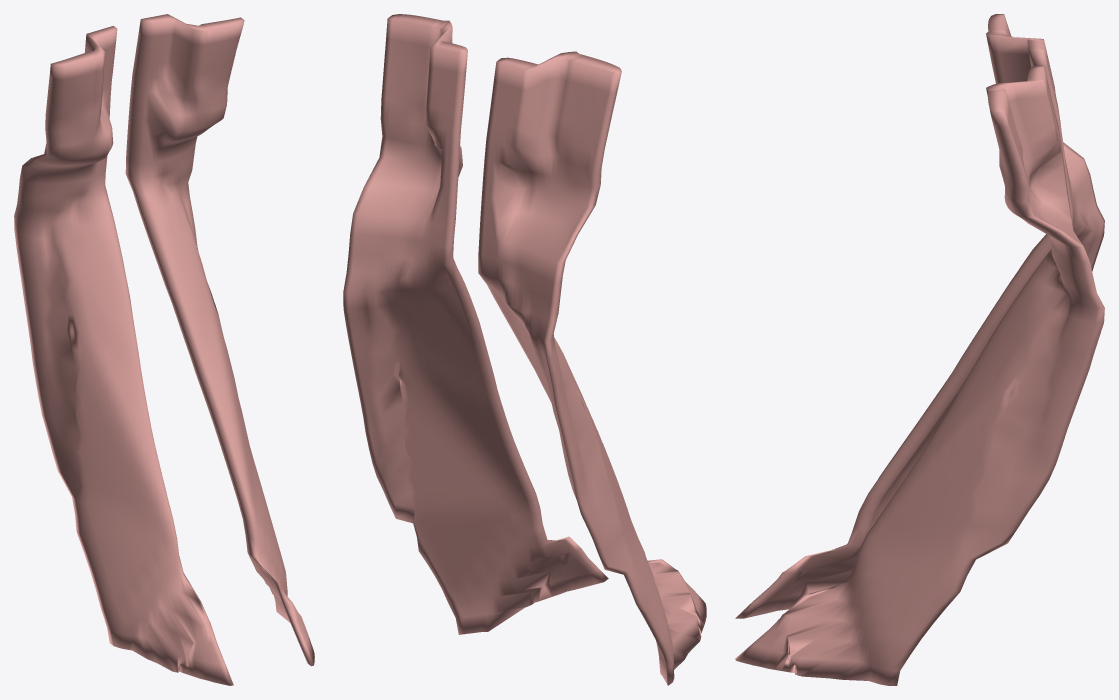
The model's file is procerus_lod1.glb.
The picture shows the model from 3 angles, left to right: view 1: azimuth 30°, elevation 25°; view 2: azimuth 150°, elevation 25°; view 3: azimuth 270°, elevation 25°; orthographic projection. The views are drawn at different scales.
Visible parts, largest first — view 1: procerus_R_lod1, procerus_L_lod1; view 2: procerus_L_lod1, procerus_R_lod1; view 3: procerus_L_lod1, procerus_R_lod1.
Boxes of the visible parts, left/top/right/bottom form: procerus_R_lod1: left=14, top=26, right=233, bottom=685; procerus_L_lod1: left=125, top=14, right=314, bottom=666; procerus_L_lod1: left=343, top=14, right=608, bottom=634; procerus_R_lod1: left=478, top=51, right=706, bottom=685; procerus_L_lod1: left=735, top=65, right=1104, bottom=685; procerus_R_lod1: left=735, top=14, right=1104, bottom=618.
Size of the model in its own units: 0.014 by 0.0387 by 0.0222.
